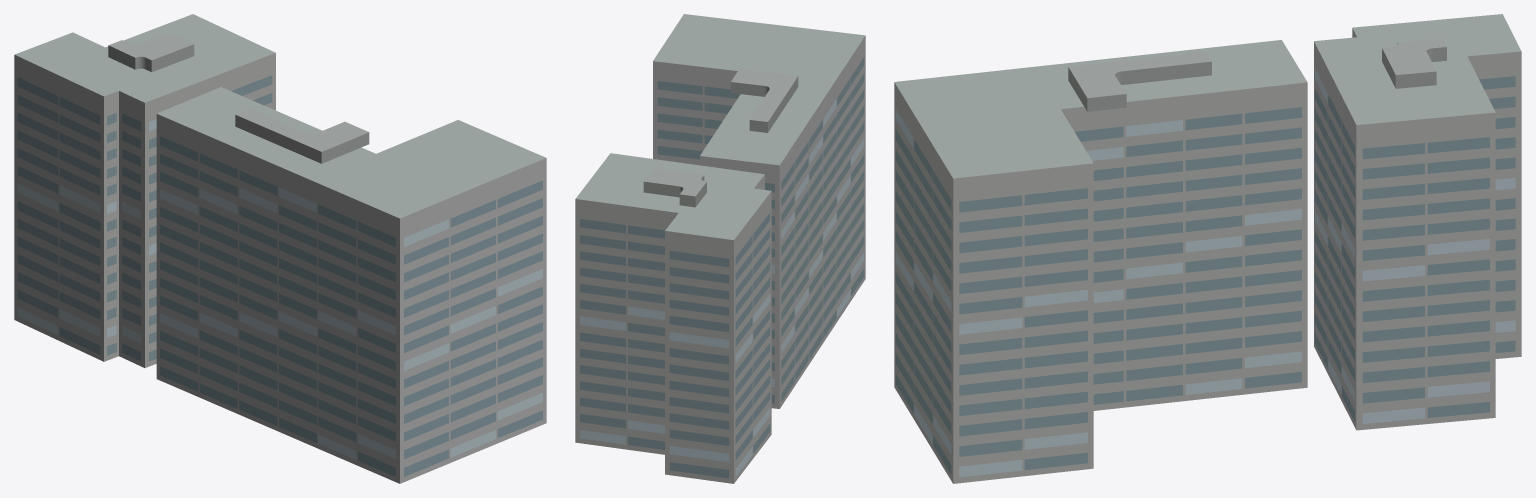
Rendered from apt-a12180401.glb.
3 views of the same model, side by side, from view 1: azimuth 30°, elevation 25°; view 2: azimuth 150°, elevation 25°; view 3: azimuth 270°, elevation 25° (orthographic). The views are drawn at different scales.
Visible parts, largest first — view 1: apt-a12180401; view 2: apt-a12180401; view 3: apt-a12180401.
Boxes of the visible parts, x1=… form: apt-a12180401: x1=14, y1=14, x2=546, y2=483; apt-a12180401: x1=575, y1=14, x2=865, y2=483; apt-a12180401: x1=894, y1=14, x2=1521, y2=483.
Size of the model in its own units: 52.9 by 47.81 by 85.18.
